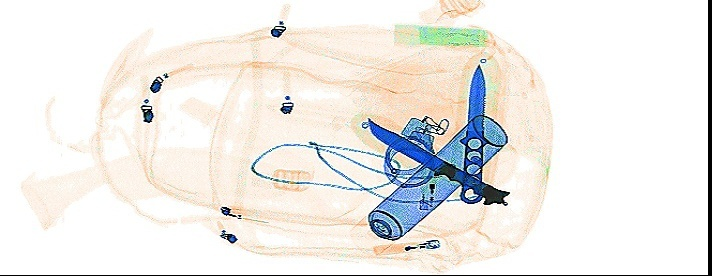handcuffs: (379, 111, 447, 188)
knife: (349, 110, 510, 205), (453, 47, 499, 206)
lighter: (371, 237, 439, 256), (415, 154, 436, 208)
pressure: (346, 111, 507, 258)
